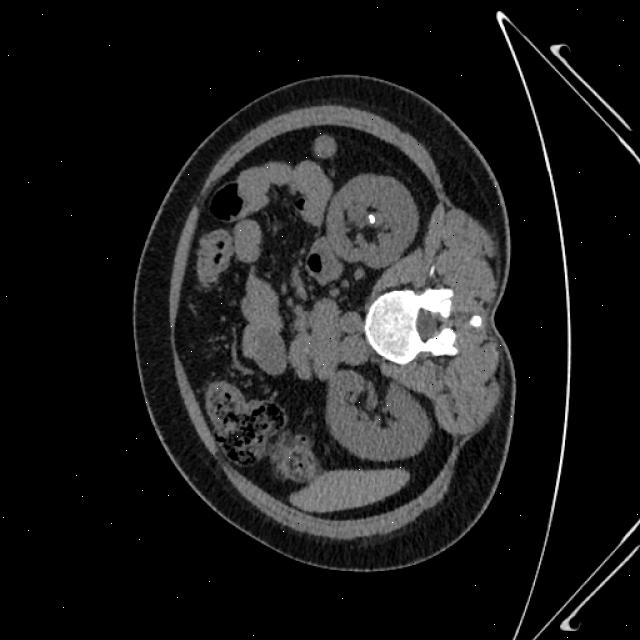kidneystone: (361, 206, 383, 229)
